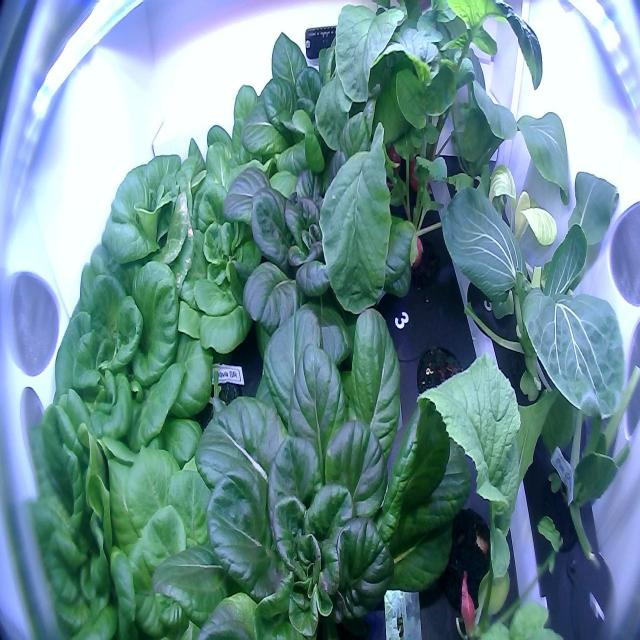Ready: (203, 112, 442, 364), (17, 382, 178, 639), (46, 233, 190, 448), (235, 16, 392, 200), (85, 135, 201, 306)
young: (140, 289, 476, 640), (97, 406, 263, 640), (160, 136, 312, 352), (184, 63, 312, 231), (179, 340, 252, 456)
